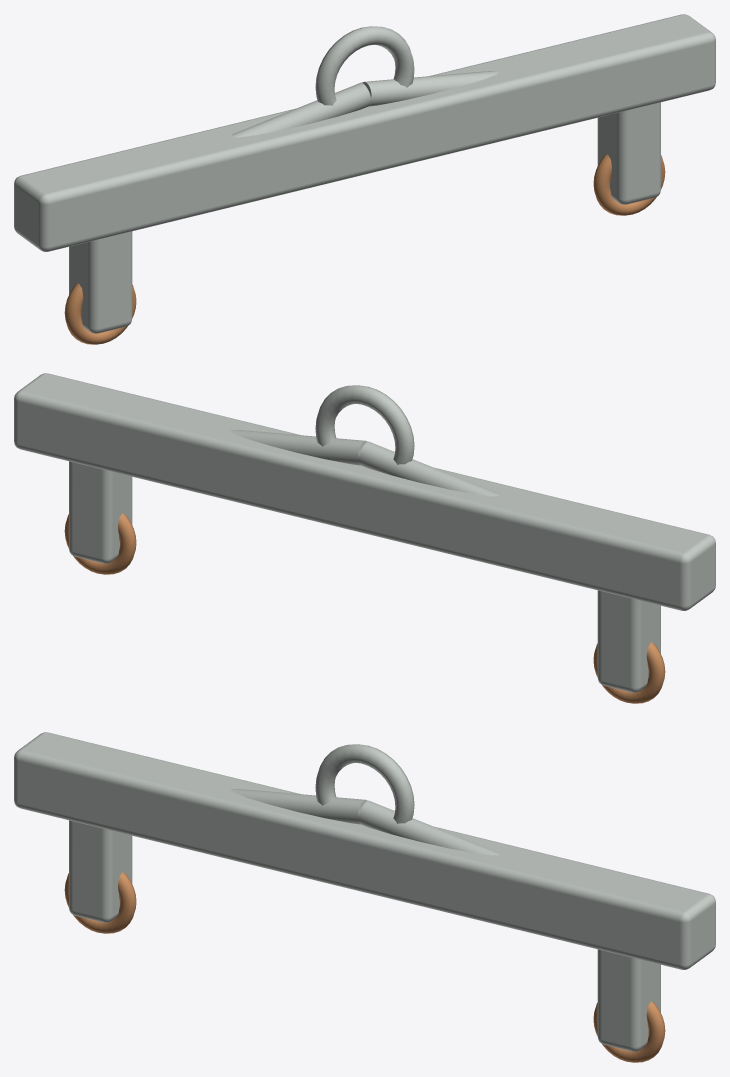
Rendered from spacecraft-thermal-test-chamber-payload-lifting-spread-c6e4a2d0__32064.glb.
The picture shows the model from 3 angles, top to bottom: view 1: azimuth 30°, elevation 25°; view 2: azimuth 150°, elevation 25°; view 3: azimuth 330°, elevation 25°; orthographic projection.
Parts seen in each view (by area): view 1: payload-lifting-spreader; view 2: payload-lifting-spreader; view 3: payload-lifting-spreader.
Boxes of the visible parts, left/top/right/bottom form: payload-lifting-spreader: left=14, top=14, right=715, bottom=344; payload-lifting-spreader: left=14, top=373, right=715, bottom=703; payload-lifting-spreader: left=14, top=732, right=715, bottom=1062.
Size of the model in its own units: 1.1 by 0.391 by 0.09.
